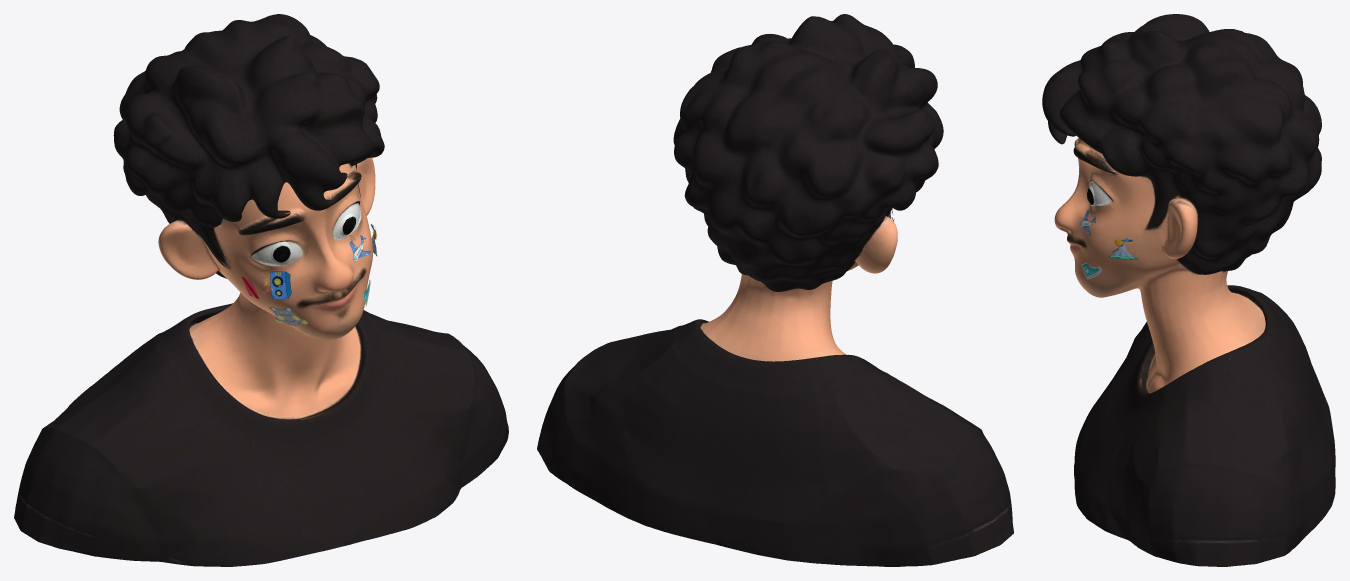
3 renders of one model, left to right at view 1: azimuth 30°, elevation 25°; view 2: azimuth 150°, elevation 25°; view 3: azimuth 270°, elevation 25°, orthographic. The views are drawn at different scales.
Parts seen in each view (by area): view 1: MY_CHARACTER; view 2: MY_CHARACTER; view 3: MY_CHARACTER.
Boxes of the visible parts, x1=… form: MY_CHARACTER: x1=14, y1=14, x2=508, y2=566; MY_CHARACTER: x1=537, y1=14, x2=1013, y2=566; MY_CHARACTER: x1=1042, y1=14, x2=1335, y2=566.
Bounding box in the file's own units: 1.8 × 1.73 × 1.05.
Materials: 8 (8 with a texture image).
